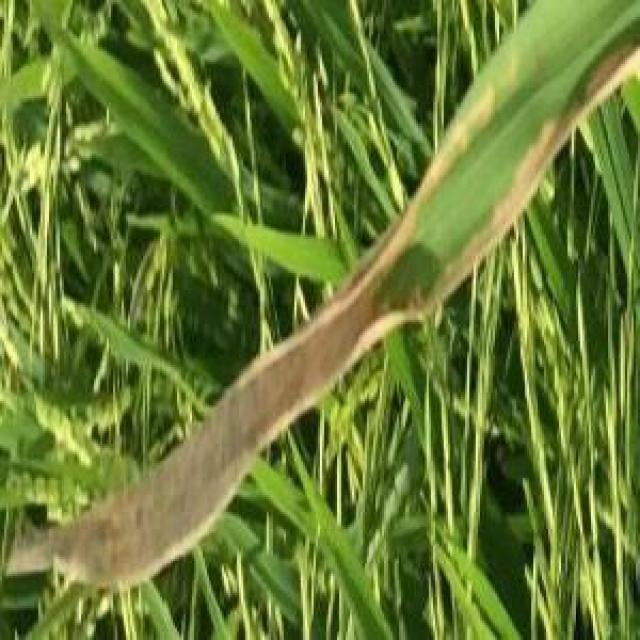leaf blight: (6, 273, 401, 572), (386, 21, 632, 299)
